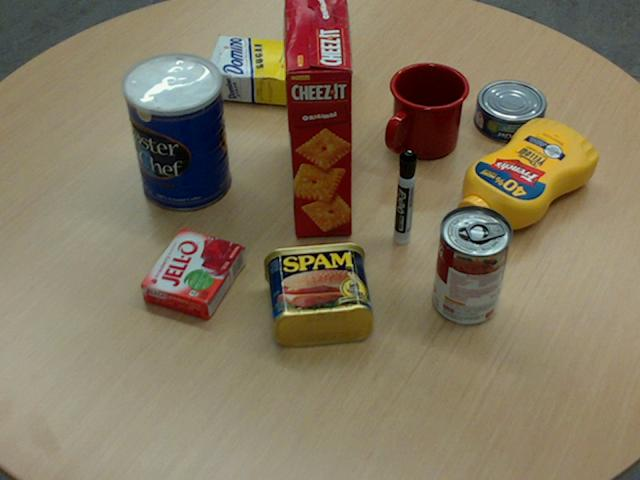cracker_box: (284, 0, 354, 236)
gelatin_box: (140, 226, 244, 318)
large_marker: (394, 151, 417, 244)
master_chef_can: (122, 52, 230, 211)
mug: (385, 62, 469, 158)
mustard_bottle: (452, 118, 596, 234)
potted_meat_can: (262, 241, 372, 345)
sugar_box: (203, 34, 350, 108)
tomato_soup_can: (432, 204, 512, 324)
tuna_fish_can: (473, 80, 545, 142)
